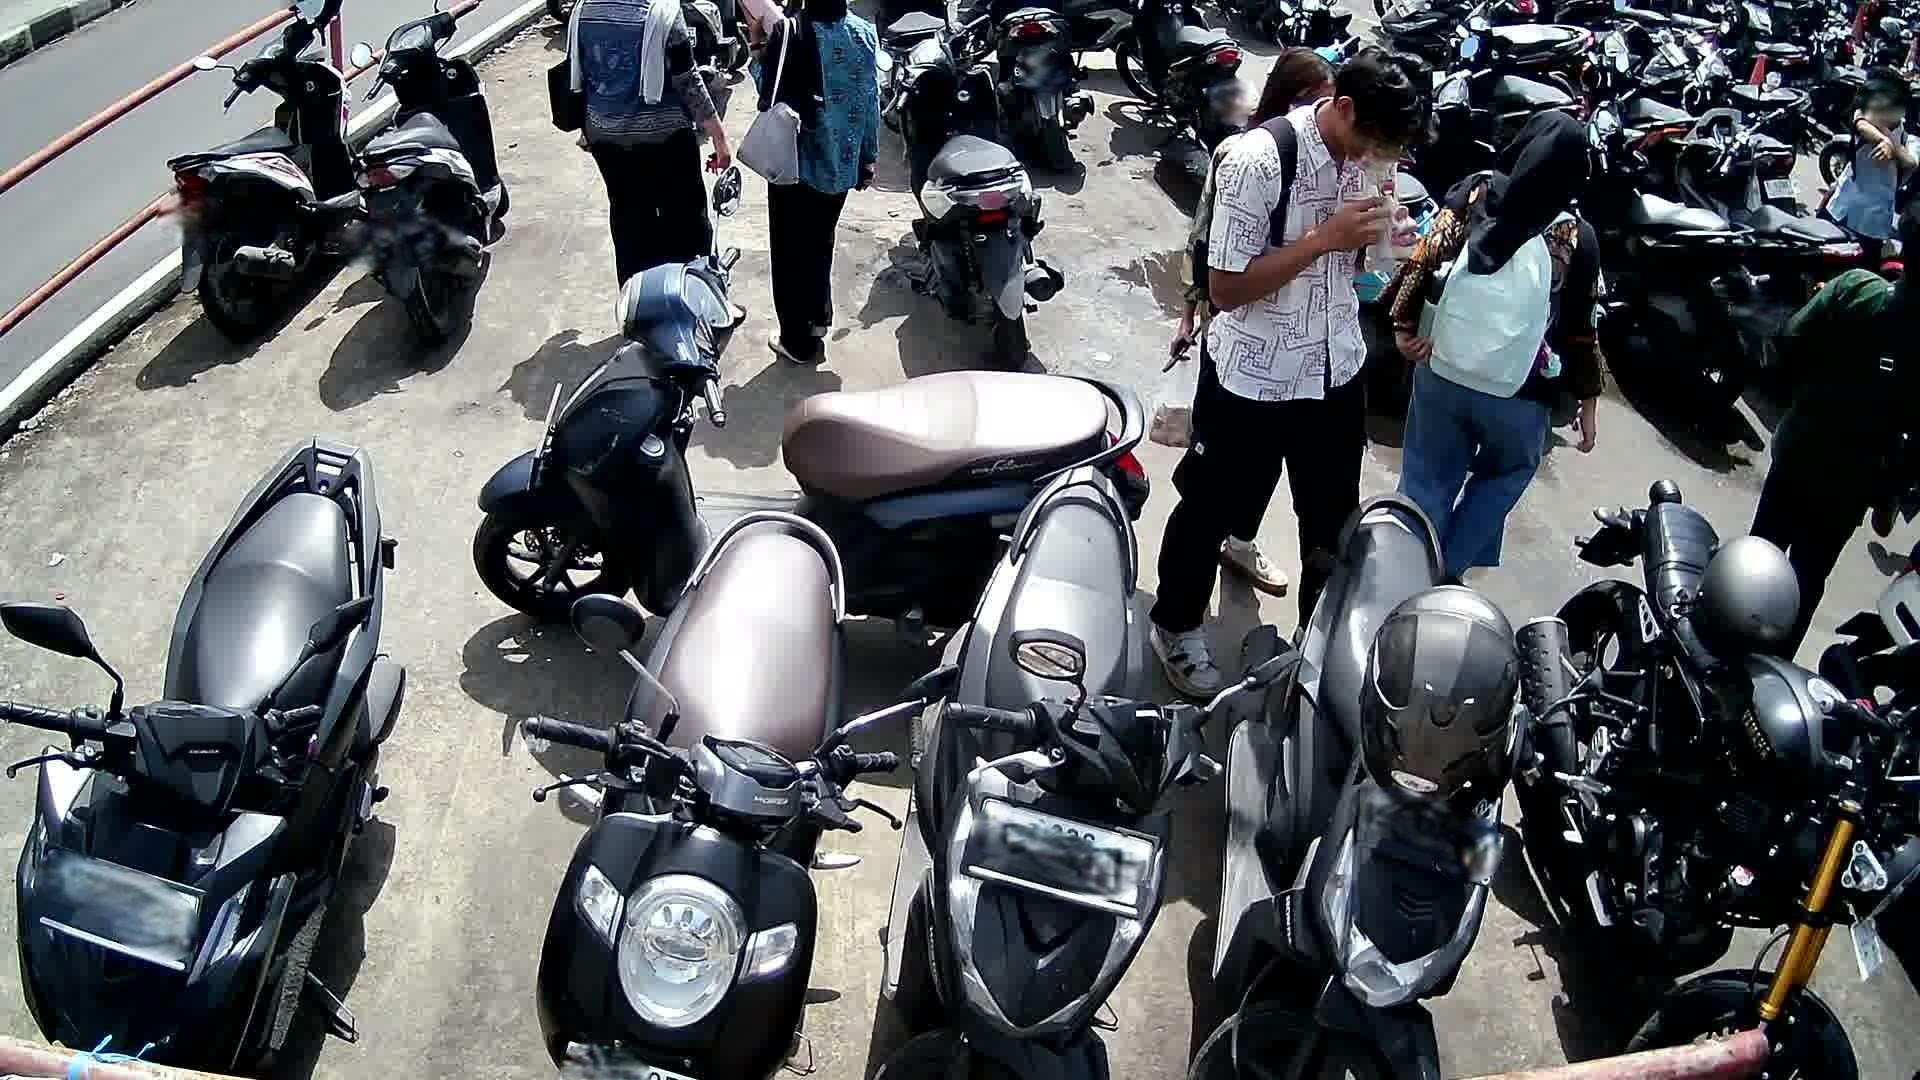motorcycle: (469, 167, 1149, 621), (0, 444, 409, 1076), (877, 467, 1294, 1080), (521, 508, 959, 1079), (1513, 477, 1920, 1080), (1191, 496, 1604, 1080), (167, 0, 377, 349), (1592, 49, 1780, 419), (874, 0, 1064, 367), (348, 0, 510, 359), (1668, 73, 1862, 291)
